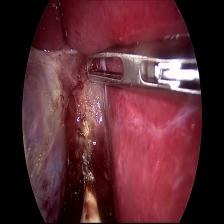Grasper: (83, 32, 204, 109)
Hook: (67, 125, 108, 224)
